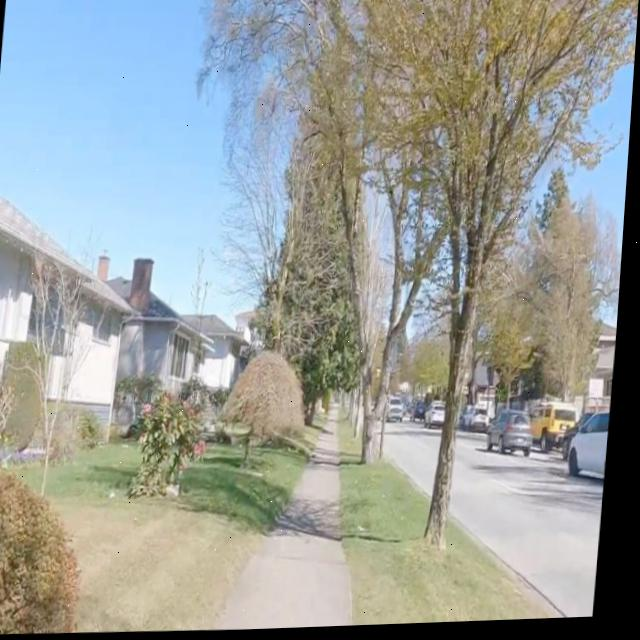Automobile: (575, 417, 615, 485), (536, 406, 584, 454), (493, 413, 538, 459), (430, 403, 450, 432), (391, 399, 409, 424), (476, 412, 494, 434), (418, 404, 431, 424)
Road: (457, 436, 610, 622), (391, 427, 445, 496)
Sidewalk: (222, 422, 361, 631)
